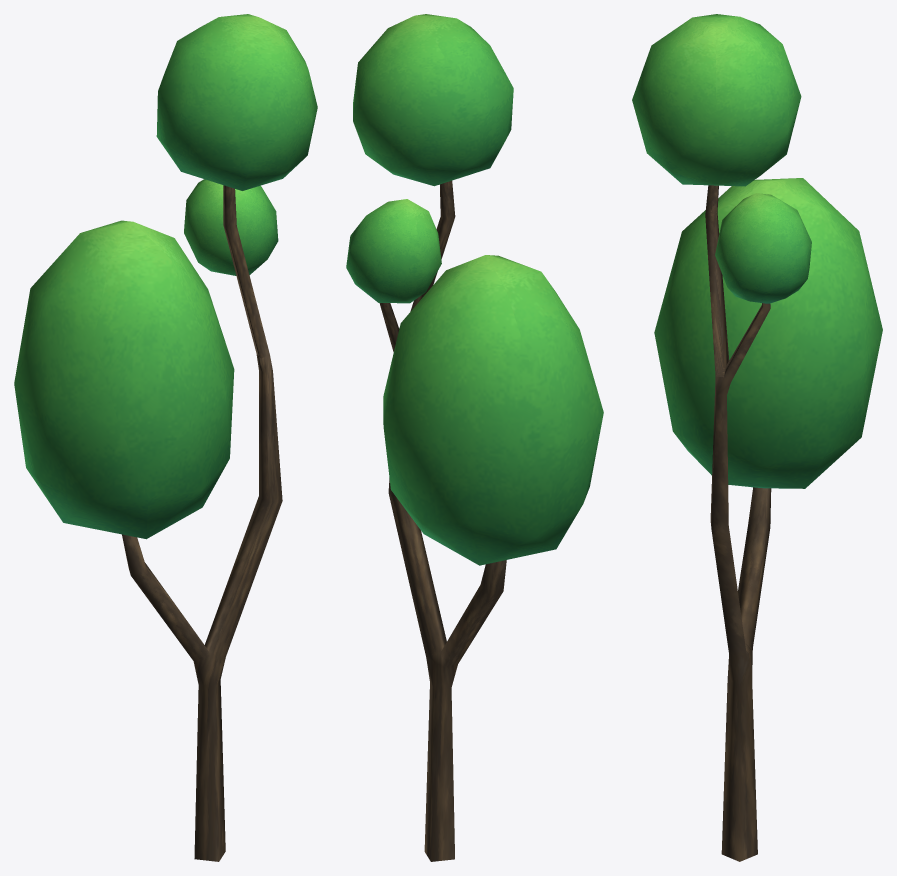
Rendered from Tree_Oak_4.fbx.
3 renders of one model, left to right at view 1: azimuth 30°, elevation 25°; view 2: azimuth 150°, elevation 25°; view 3: azimuth 270°, elevation 25°, orthographic. The views are drawn at different scales.
Parts seen in each view (by area): view 1: Icosphere.084, Icosphere.085, Cube.082, Icosphere.086; view 2: Icosphere.084, Icosphere.085, Cube.082, Icosphere.086; view 3: Icosphere.084, Icosphere.085, Cube.082, Icosphere.086.
Boxes of the visible parts, box(x1,y1,x2,y2) form: Icosphere.084: box(14, 220, 234, 539); Icosphere.085: box(156, 14, 317, 190); Cube.082: box(122, 185, 282, 861); Icosphere.086: box(184, 179, 278, 275); Icosphere.084: box(383, 255, 603, 565); Icosphere.085: box(353, 14, 513, 186); Cube.082: box(379, 180, 506, 861); Icosphere.086: box(346, 199, 441, 303); Icosphere.084: box(654, 178, 882, 488); Icosphere.085: box(632, 14, 801, 186); Cube.082: box(705, 185, 771, 861); Icosphere.086: box(715, 193, 811, 303).
Bounding box in the file's own units: 187 × 594 × 160.
2 materials, 2 textured.
